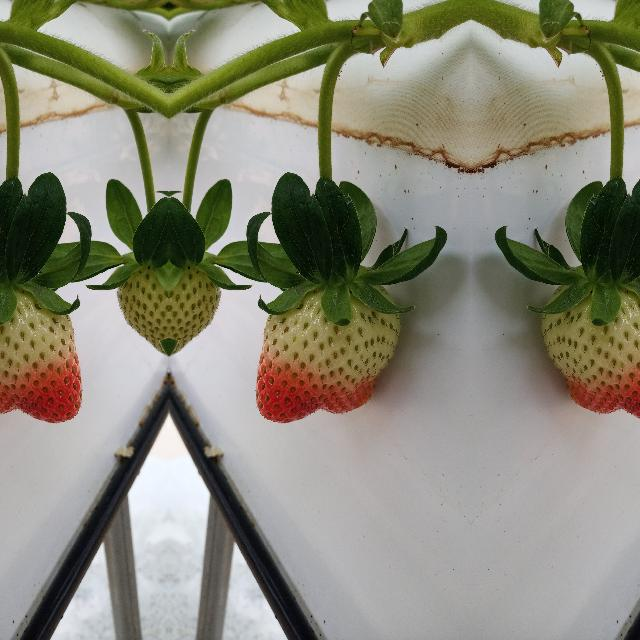Health_25: (168, 248, 232, 359), (104, 248, 168, 359)
Health_50: (254, 284, 402, 426), (539, 284, 640, 425), (0, 284, 82, 425)
